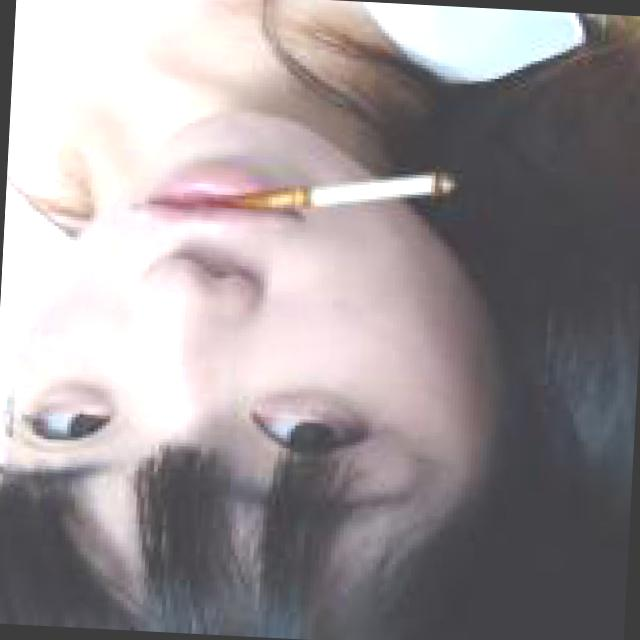cigarette: (276, 160, 457, 214)
